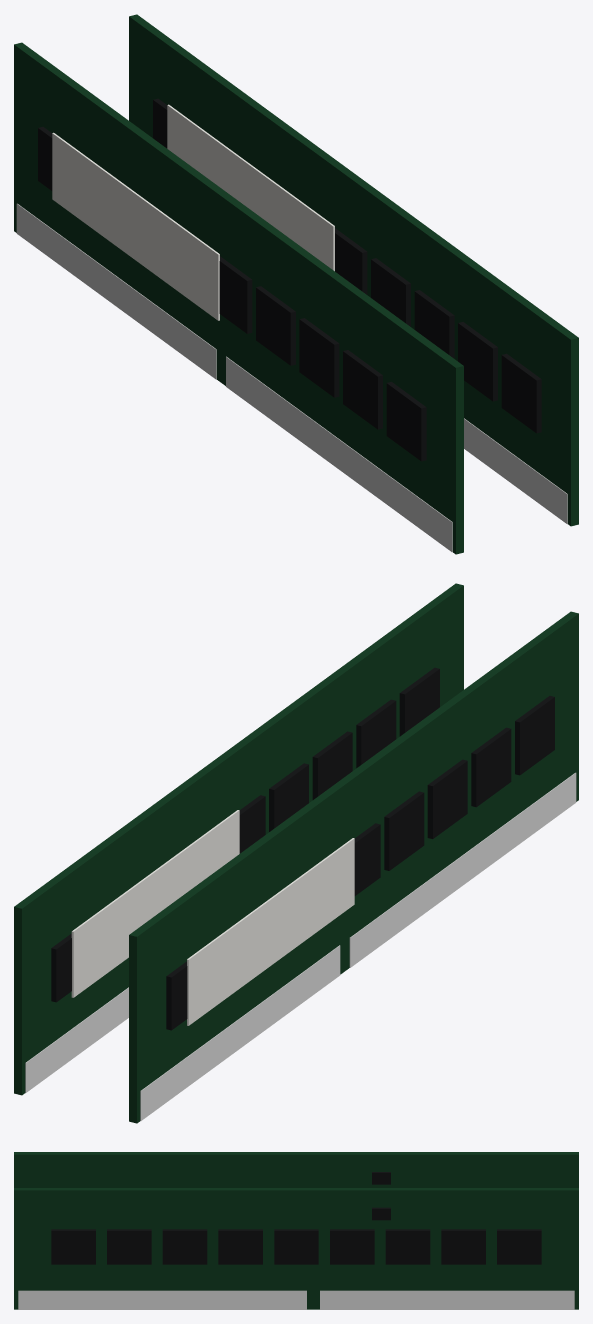
Rendered from hw_ram_ddr2_4gb.glb.
3 views of the same model, one above another, from view 1: azimuth 30°, elevation 25°; view 2: azimuth 150°, elevation 25°; view 3: azimuth 270°, elevation 25° (orthographic). The views are drawn at different scales.
Visible parts, largest first — view 1: Stick_1, Body; view 2: Stick_1, Body; view 3: Body, Stick_1.
Boxes of the visible parts, bbox=[...] form: Stick_1: bbox=[14, 42, 463, 554]; Body: bbox=[129, 14, 578, 526]; Stick_1: bbox=[129, 611, 578, 1123]; Body: bbox=[14, 583, 463, 1095]; Body: bbox=[14, 1188, 578, 1309]; Stick_1: bbox=[14, 1152, 578, 1187].
Size of the model in its own units: 0.0234 by 0.031 by 0.133.
